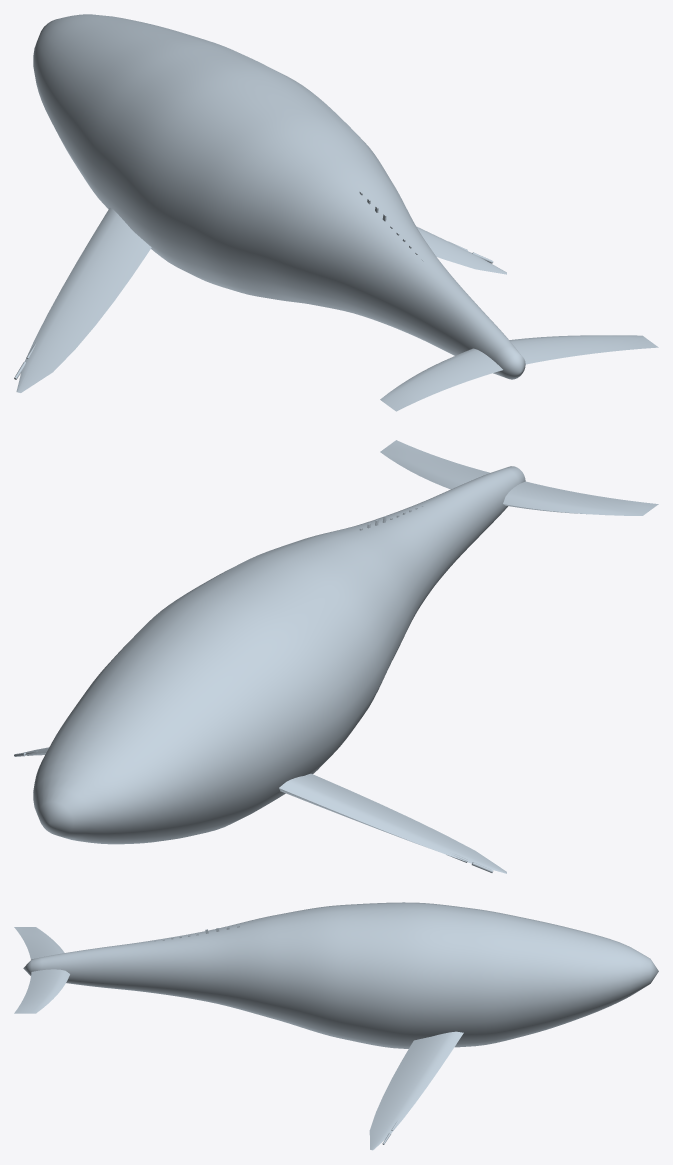
Rendered from ghost_whale.glb.
The picture shows the model from 3 angles, top to bottom: view 1: azimuth 30°, elevation 25°; view 2: azimuth 150°, elevation 25°; view 3: azimuth 270°, elevation 25°; orthographic projection. The views are drawn at different scales.
Visible parts, largest first — view 1: ghost_whale; view 2: ghost_whale; view 3: ghost_whale.
Part boxes in pixels (<box>): ghost_whale: <box>14,14,658,411</box>; ghost_whale: <box>14,440,658,873</box>; ghost_whale: <box>14,902,658,1150</box>.
Size of the model in its own units: 8.65 by 3.98 by 14.59.
